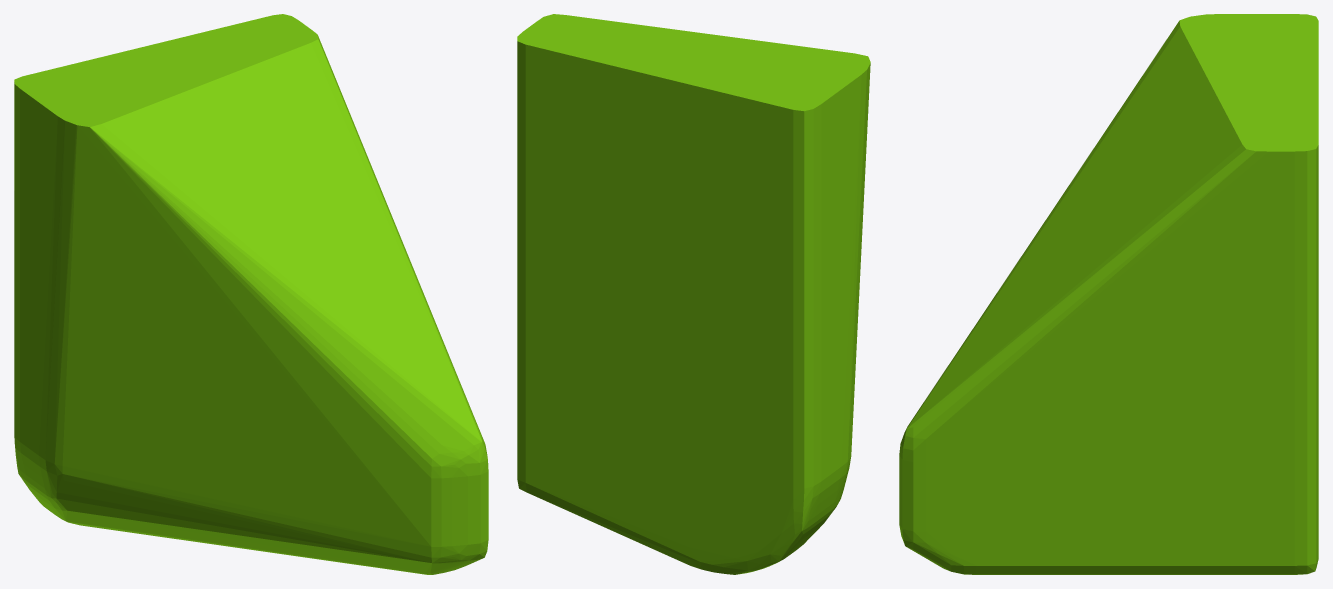
The model's file is right_lf_metacarpal_part_4.obj.
The picture shows the model from 3 angles, left to right: view 1: azimuth 30°, elevation 25°; view 2: azimuth 150°, elevation 25°; view 3: azimuth 270°, elevation 25°; orthographic projection. The views are drawn at different scales.
Bounding box in the file's own units: 9.6 × 14.94 × 12.37.
